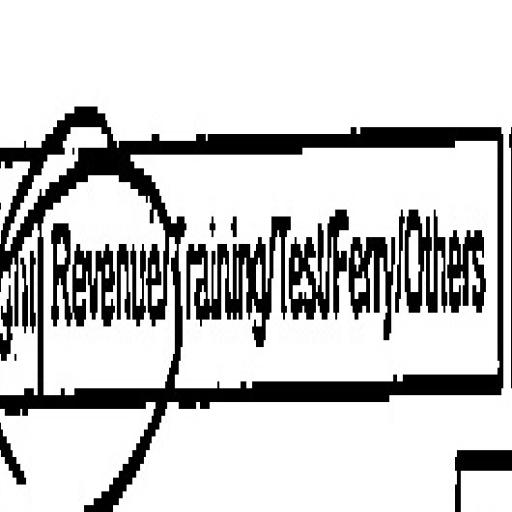check: (4, 60, 172, 512)
